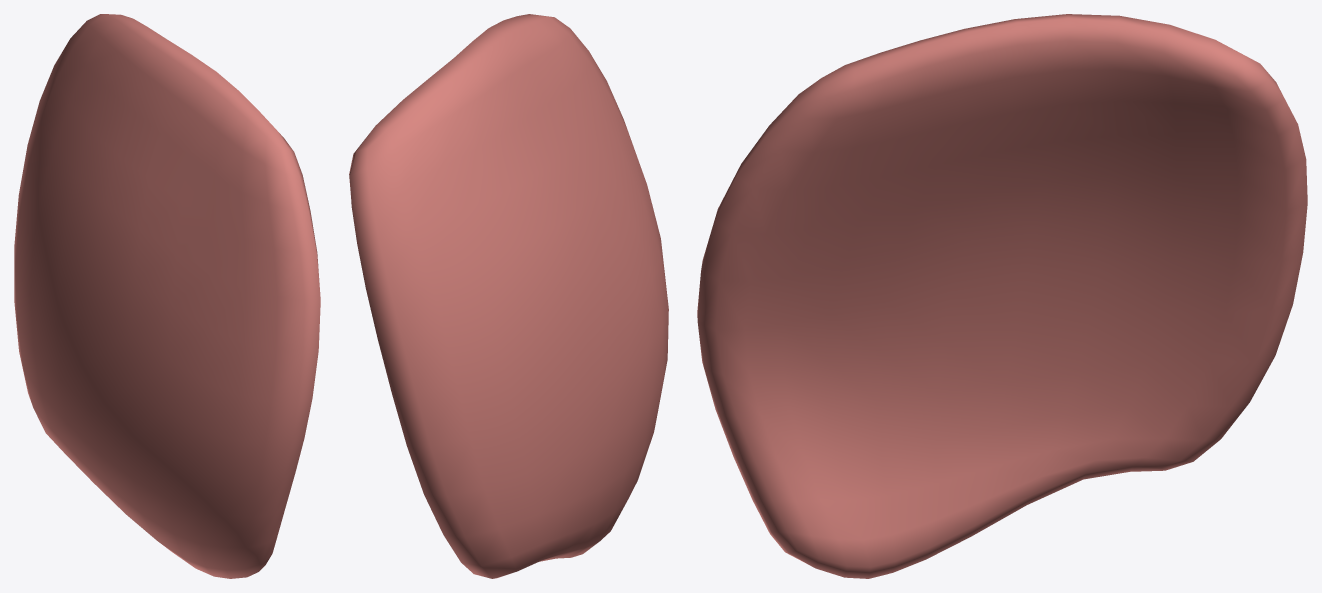
3 renders of one model, left to right at view 1: azimuth 30°, elevation 25°; view 2: azimuth 150°, elevation 25°; view 3: azimuth 270°, elevation 25°, orthographic. The views are drawn at different scales.
Visible parts, largest first — view 1: ZA_7651b0dfdbaf80f0; view 2: ZA_7651b0dfdbaf80f0; view 3: ZA_7651b0dfdbaf80f0.
Boxes of the visible parts, x1,y1,x2,y2 form: ZA_7651b0dfdbaf80f0: (14, 14, 320, 578); ZA_7651b0dfdbaf80f0: (349, 14, 668, 578); ZA_7651b0dfdbaf80f0: (697, 14, 1307, 578).
Bounding box in the file's own units: 0.00699 × 0.0234 × 0.0225.
